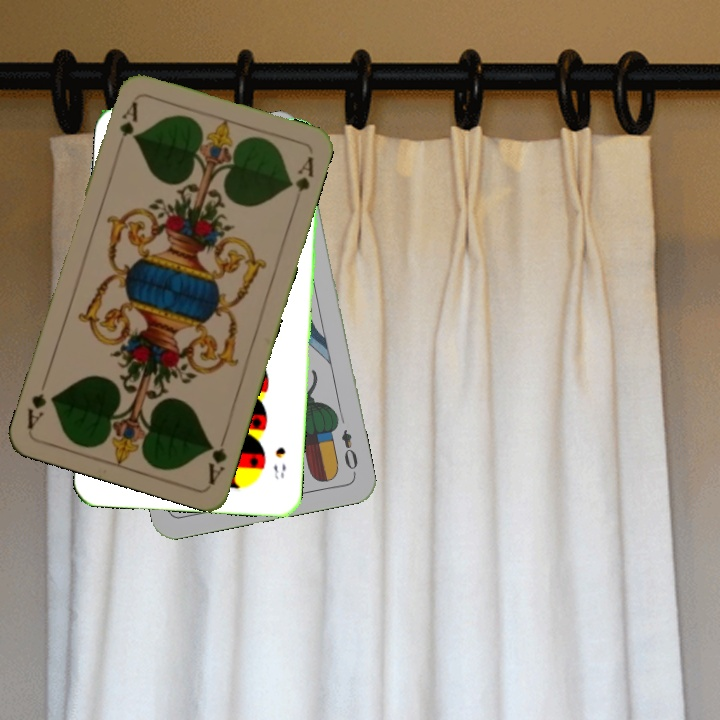EO: (337, 425, 361, 477)
GA: (203, 428, 230, 486), (115, 97, 140, 140)
S8: (270, 443, 289, 482)
